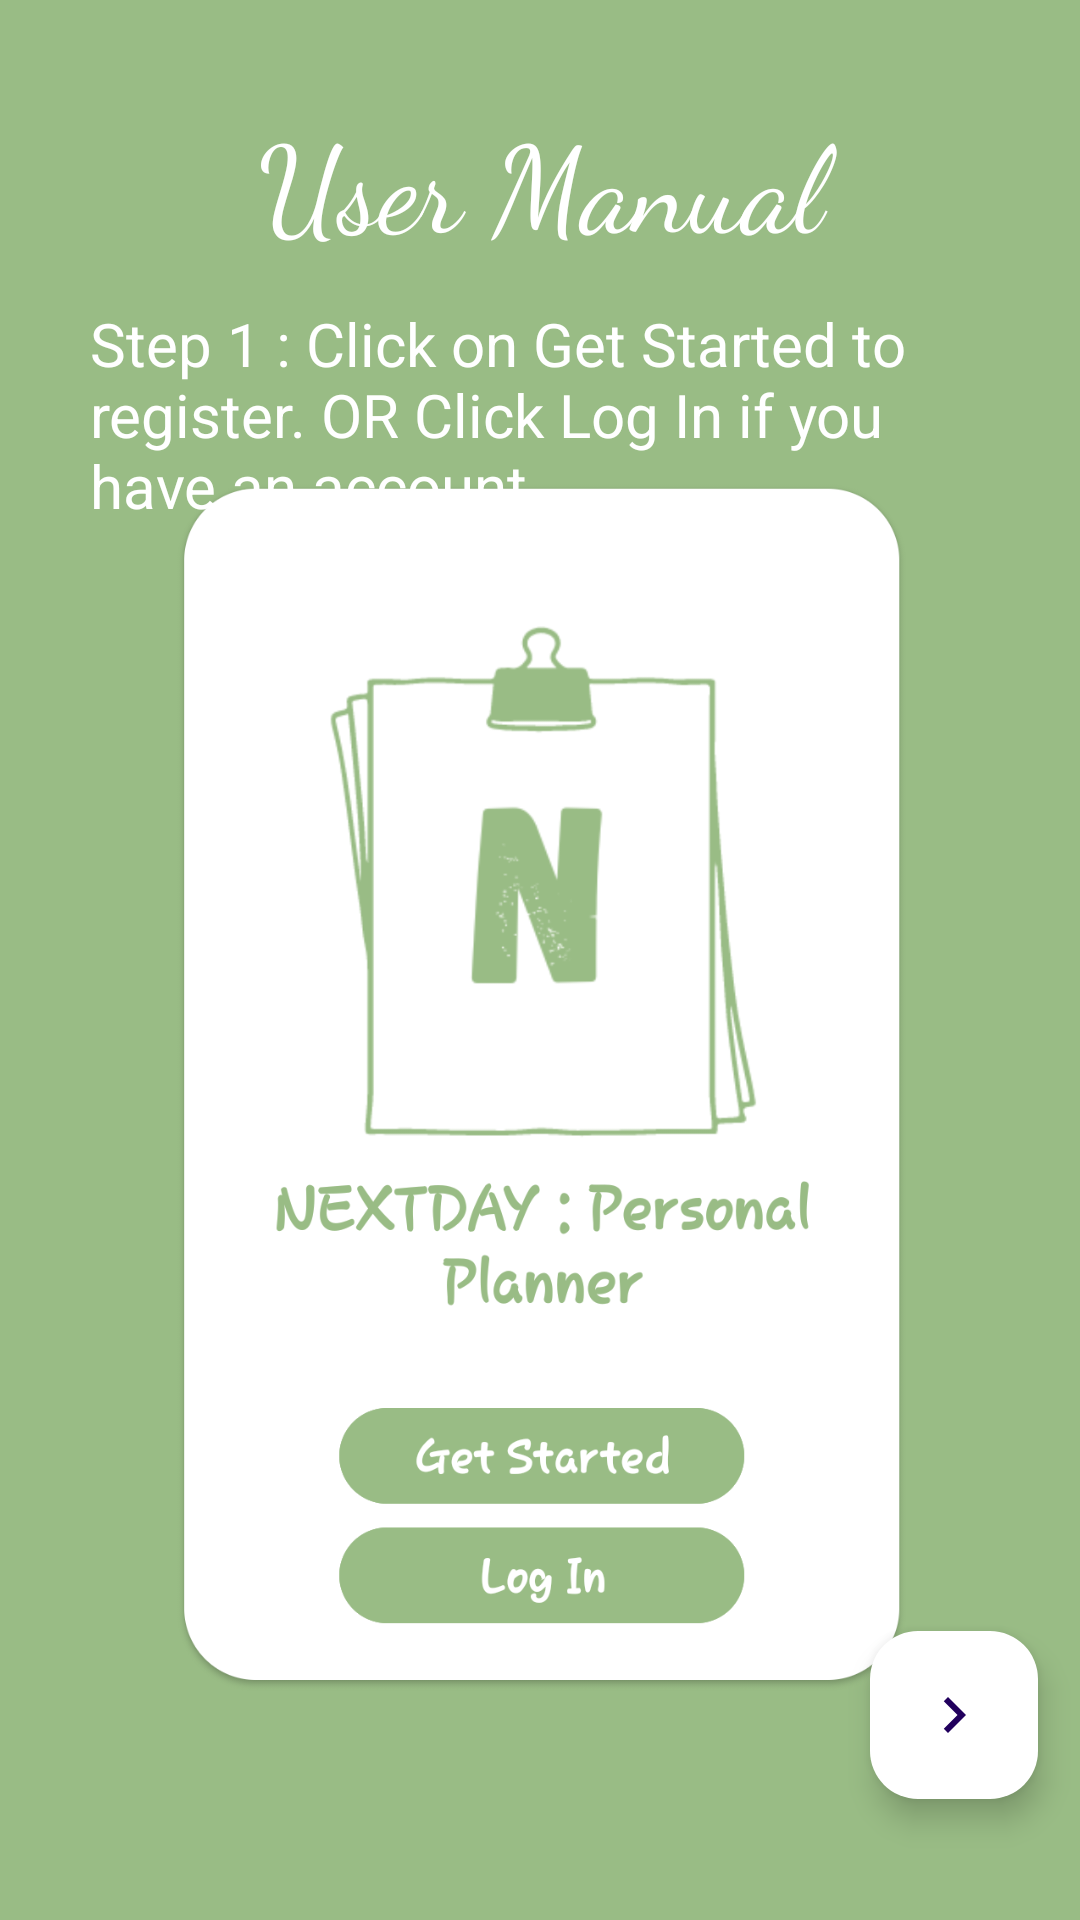

Icon bounding boxes for this 1080×1920 phone screenshot, format [x1=x1, y1=y1, x2=x2, y2=y2]:
navigate next: [x1=870, y1=1631, x2=1038, y2=1799]
